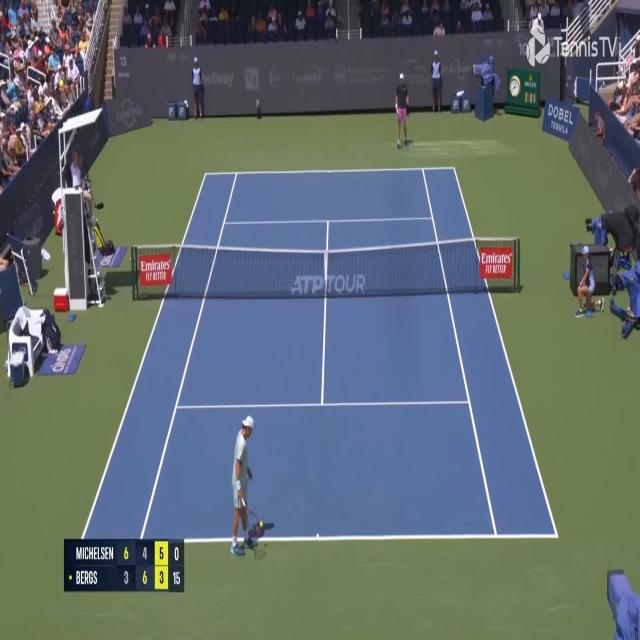tennis-player: (229, 412, 267, 563), (394, 72, 410, 149)
